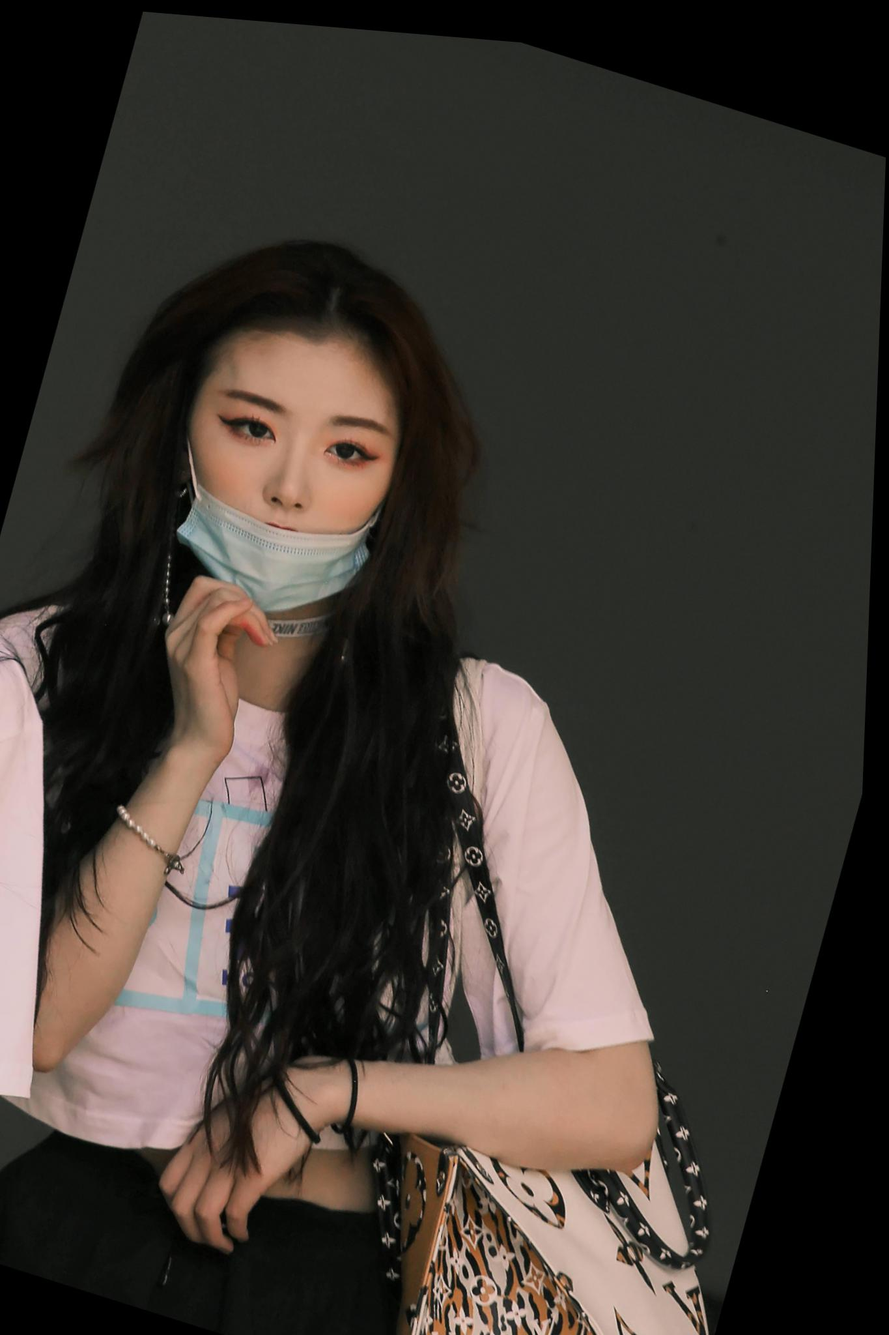WRONG: (155, 336, 417, 629)
